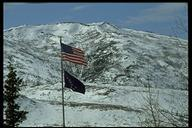flag: (56, 32, 92, 69), (57, 67, 91, 100)
mountain: (9, 18, 188, 37)
snow: (128, 40, 182, 73)
tree: (1, 61, 31, 123)
